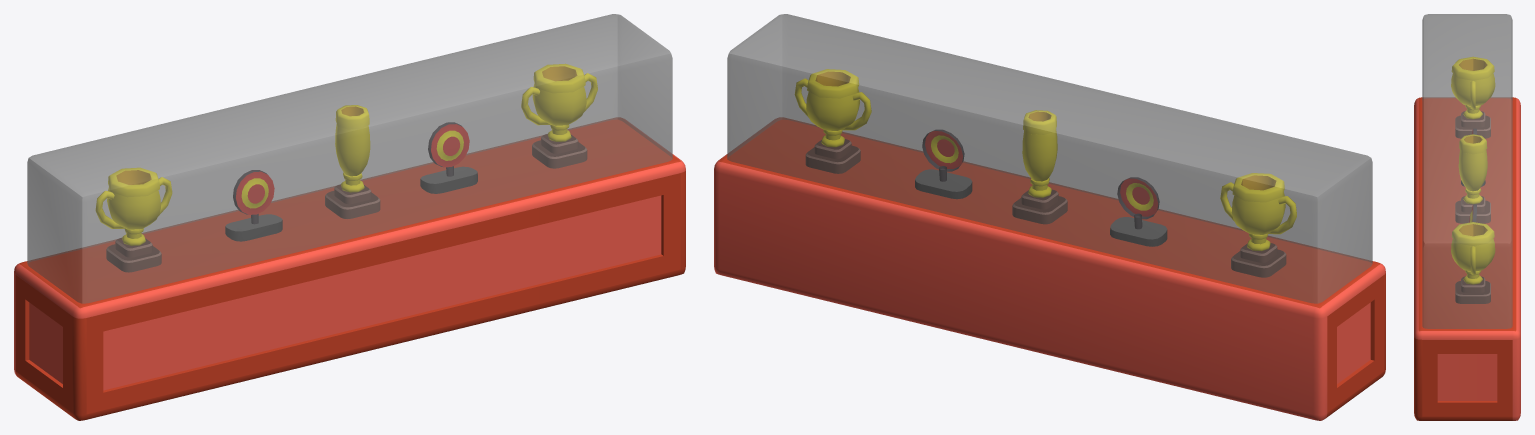
File: BIg Traphy Table.fbx
3 renders of one model, left to right at view 1: azimuth 30°, elevation 25°; view 2: azimuth 150°, elevation 25°; view 3: azimuth 270°, elevation 25°, orthographic. The views are drawn at different scales.
Parts seen in each view (by area): view 1: BIg Traphy Table; view 2: BIg Traphy Table; view 3: BIg Traphy Table.
Part boxes in pixels (x1,y1,x2,y2): BIg Traphy Table: (14,14,685,420); BIg Traphy Table: (714,14,1385,420); BIg Traphy Table: (1414,14,1520,420).
Bounding box in the file's own units: 26.59 × 9.18 × 5.06.
